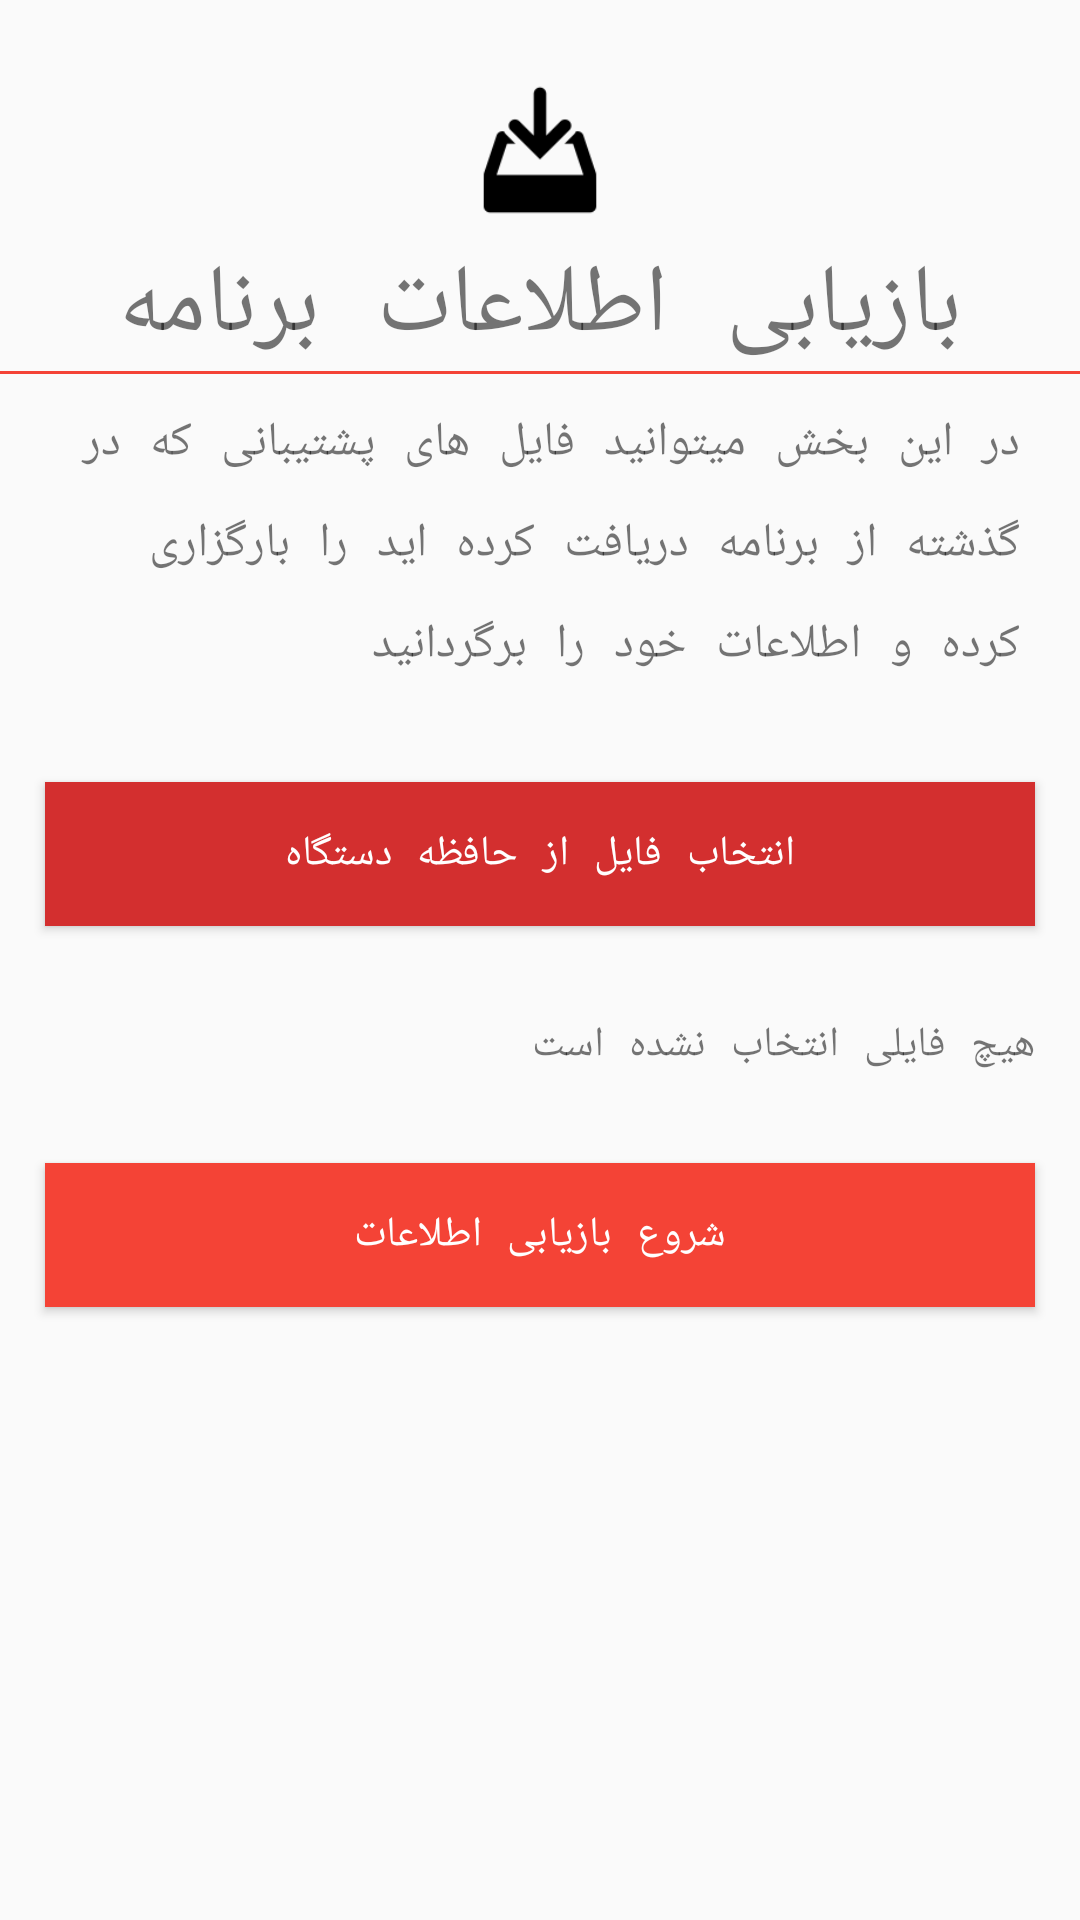

Point at icon controls on the screen. Image size 1080 × 1920, points as [x,y].
download: [540,150]
